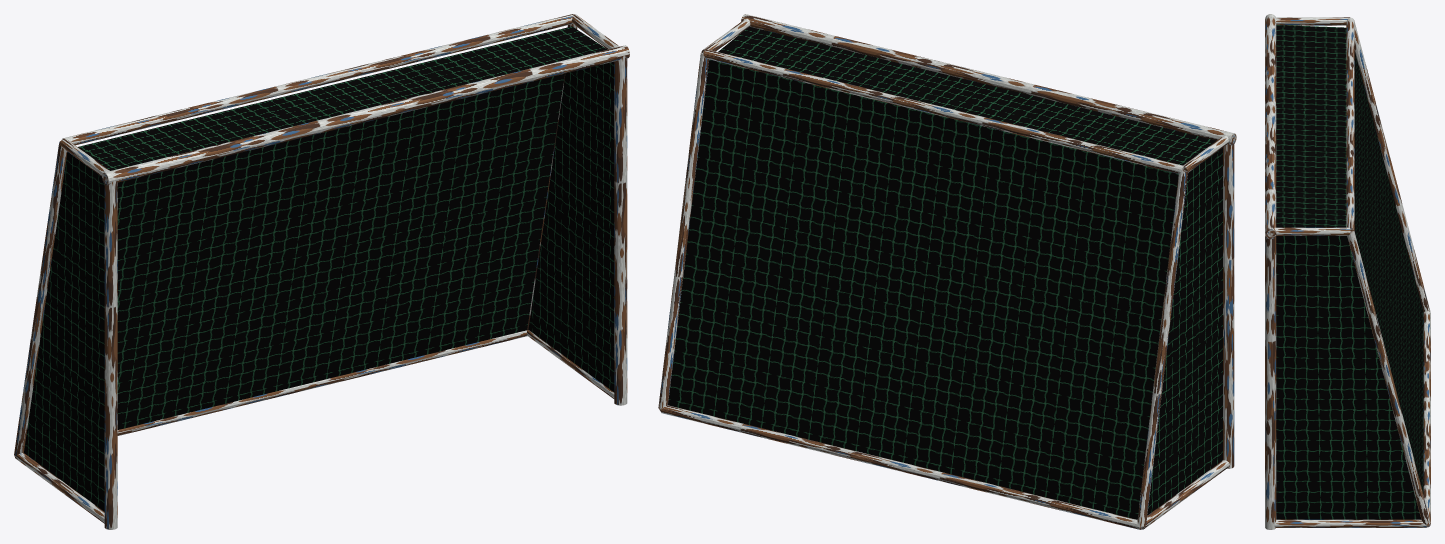
File: gawang_lapangan_futsal.glb
3 renders of one model, left to right at view 1: azimuth 30°, elevation 25°; view 2: azimuth 150°, elevation 25°; view 3: azimuth 270°, elevation 25°, orthographic. The views are drawn at different scales.
Visible parts, largest first — view 1: Jaring_Gawang_Hijau, Rangka_Besi_Putih_Berkarat; view 2: Jaring_Gawang_Hijau, Rangka_Besi_Putih_Berkarat; view 3: Jaring_Gawang_Hijau, Rangka_Besi_Putih_Berkarat.
Part boxes in pixels (x1,y1,x2,y2): Jaring_Gawang_Hijau: (24,26,614,511); Rangka_Besi_Putih_Berkarat: (14,14,629,529); Jaring_Gawang_Hijau: (668,27,1222,519); Rangka_Besi_Putih_Berkarat: (658,14,1236,529); Jaring_Gawang_Hijau: (1276,25,1423,519); Rangka_Besi_Putih_Berkarat: (1265,14,1430,529).
Size of the model in its own units: 3.07 by 2 by 0.999.
2 materials, 2 textured.
